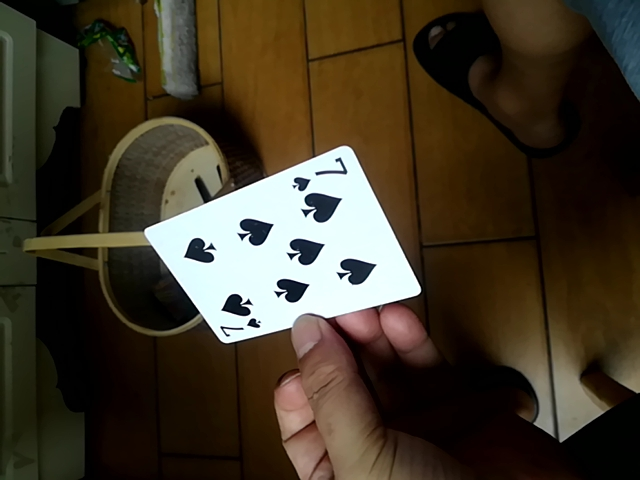ht 7: (144, 147, 425, 348)
